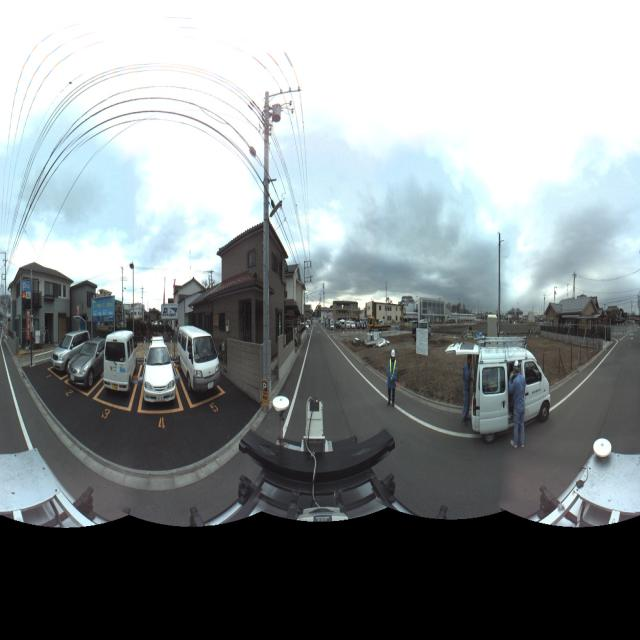b_1: (201, 224, 287, 365), (8, 251, 72, 356), (540, 277, 600, 344), (170, 274, 212, 349), (403, 286, 452, 332), (71, 272, 98, 340), (326, 292, 365, 339), (364, 292, 400, 335)
